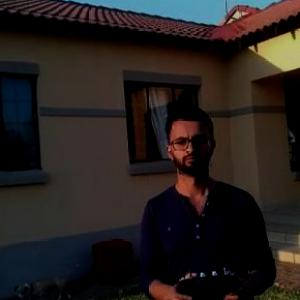follow: (138, 98, 284, 299)
null: (9, 259, 78, 299)
